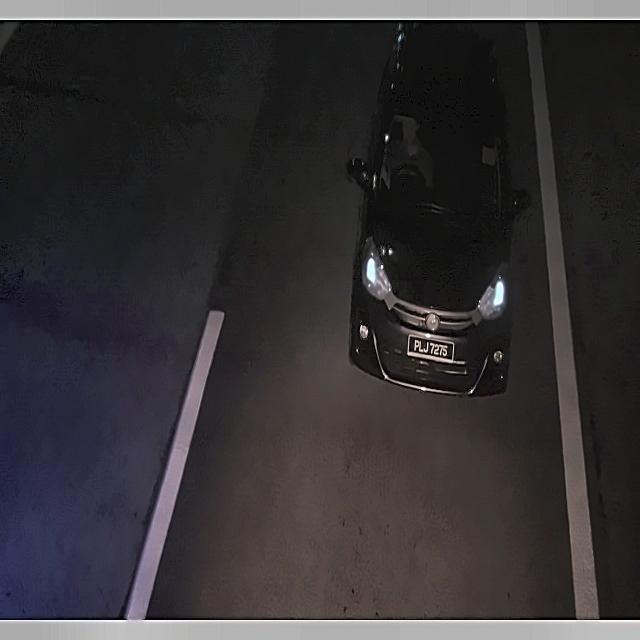car: (407, 333, 457, 365)
